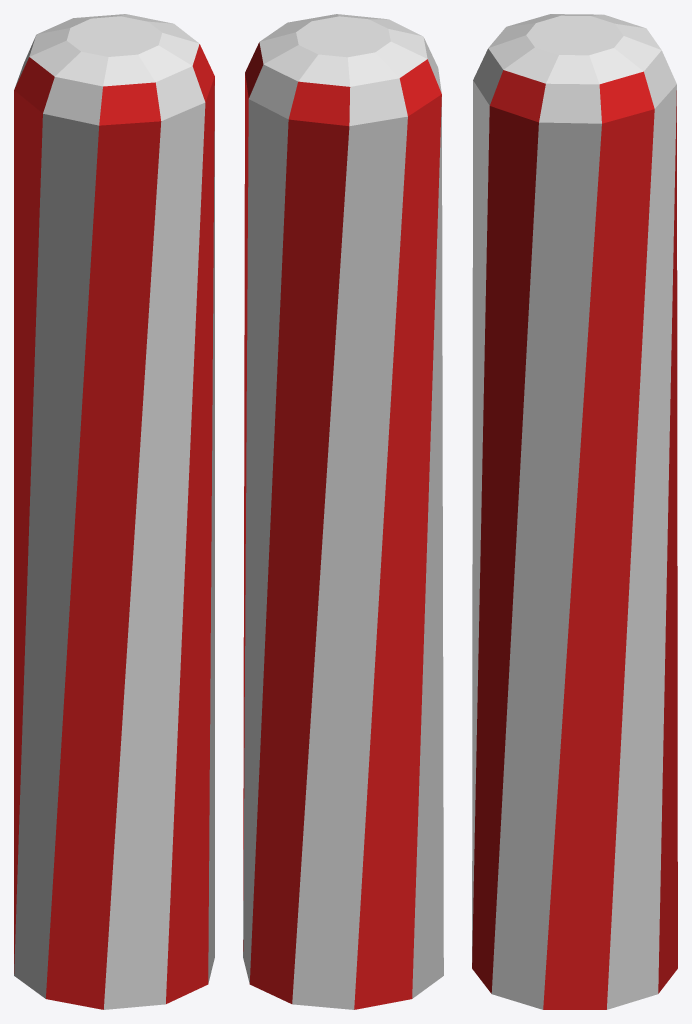
File: cilindro.fbx
3 views of the same model, side by side, from view 1: azimuth 30°, elevation 25°; view 2: azimuth 150°, elevation 25°; view 3: azimuth 270°, elevation 25° (orthographic).
Parts seen in each view (by area): view 1: Cilindro; view 2: Cilindro; view 3: Cilindro.
Part boxes in pixels (x1,y1,x2,y2): Cilindro: [14, 14, 214, 1009]; Cilindro: [243, 14, 443, 1009]; Cilindro: [472, 14, 677, 1009].
Bounding box in the file's own units: 191 × 1000 × 200.
